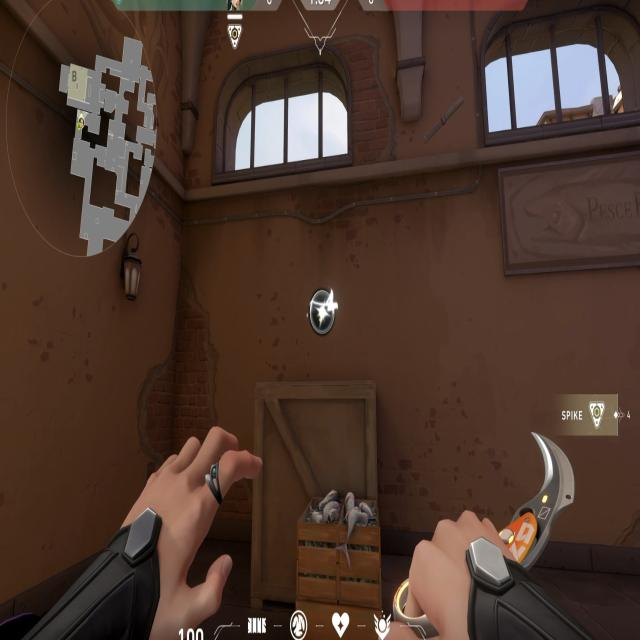B_Main_Wallbang: (226, 276, 402, 640)
Throwables: (464, 0, 640, 166), (211, 37, 370, 203)
